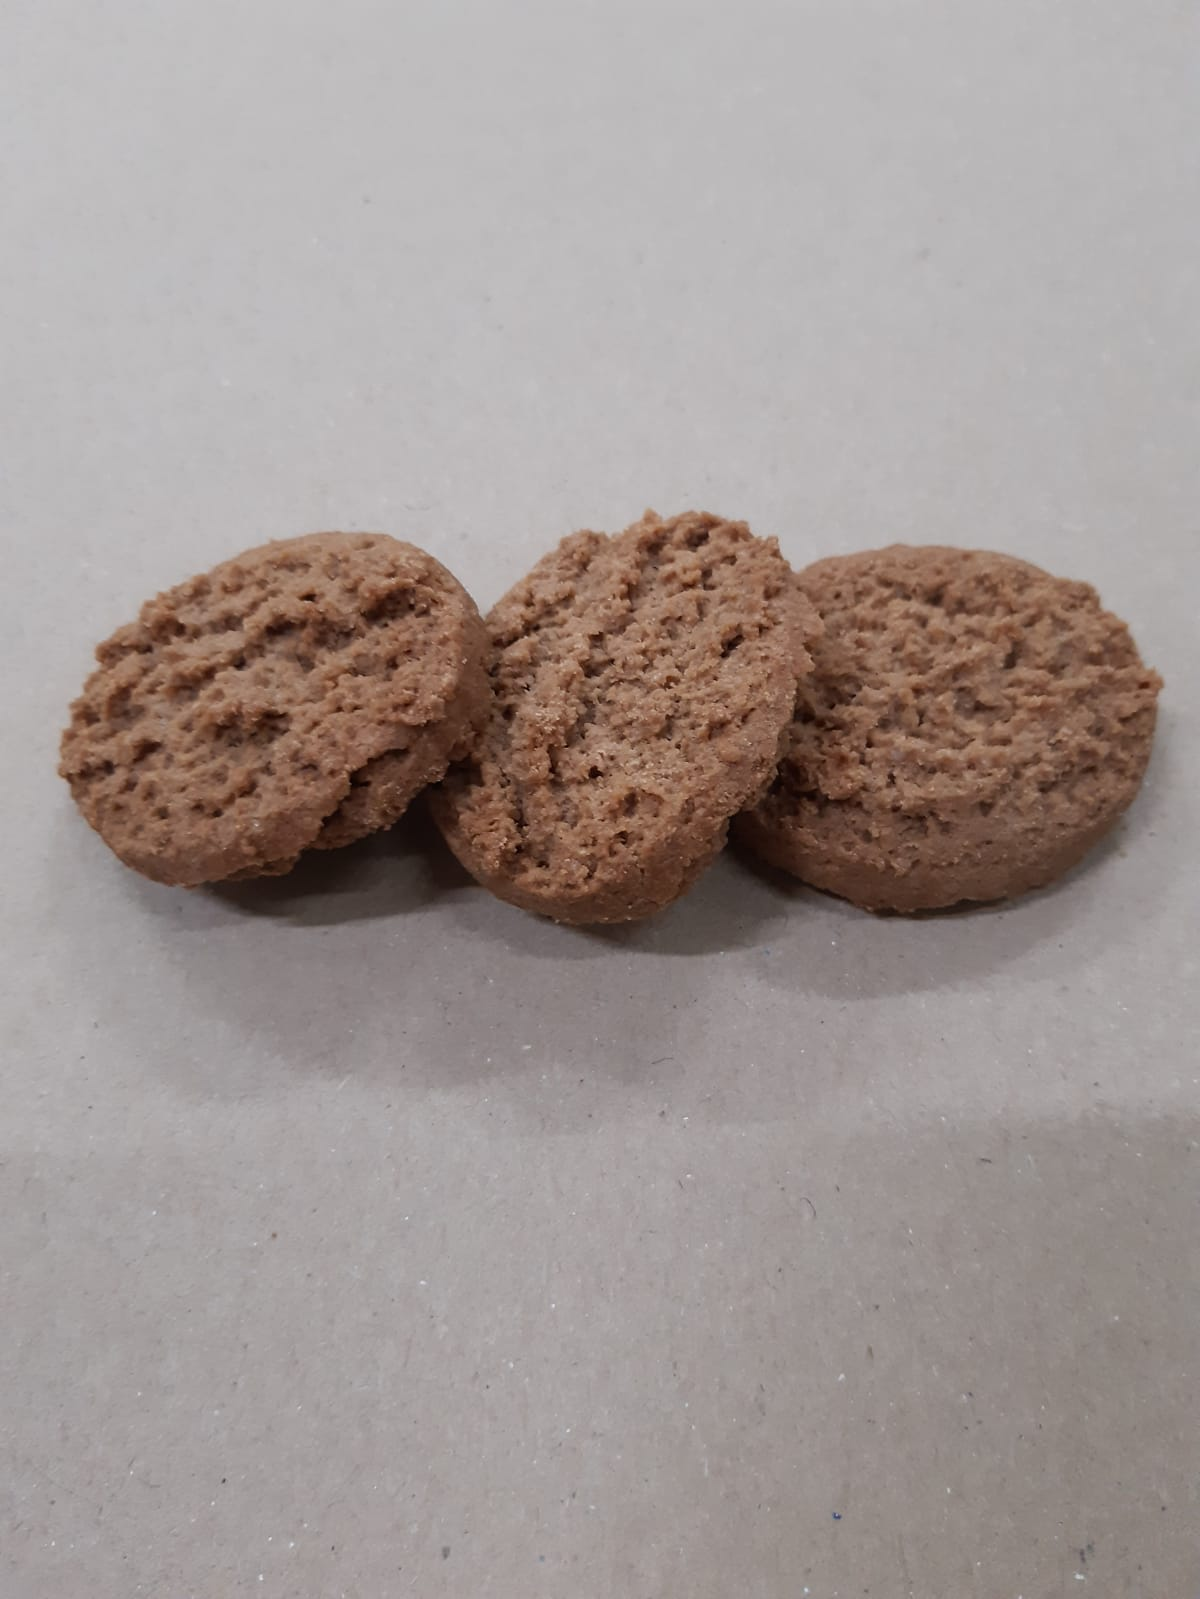Cookie3: (416, 512, 813, 927), (715, 542, 1155, 914), (62, 537, 488, 886)
